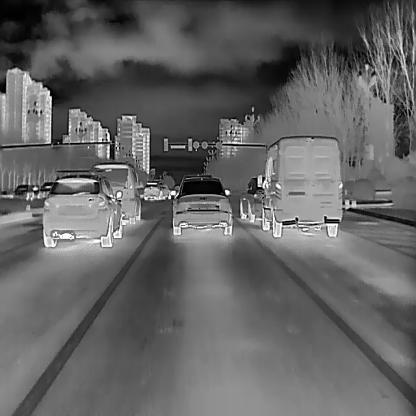car: (255, 134, 343, 237), (40, 173, 125, 248), (169, 175, 234, 235), (88, 160, 142, 224), (239, 175, 269, 222), (142, 177, 171, 201), (12, 184, 34, 201), (39, 181, 54, 199)
